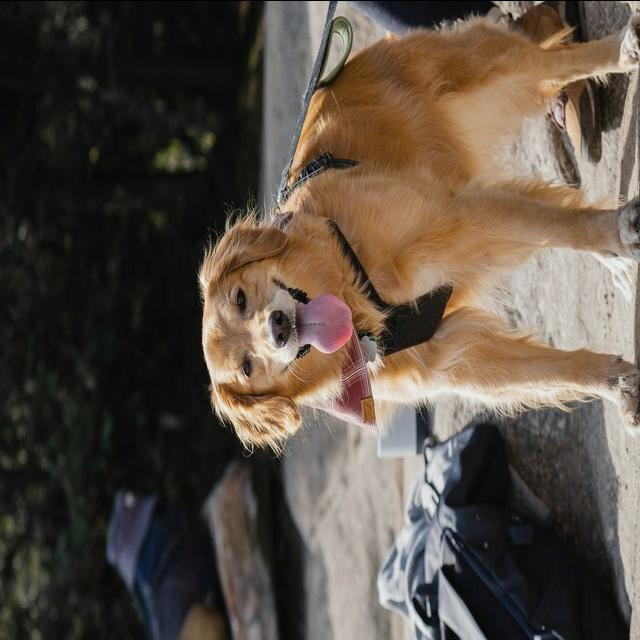retriever: (196, 5, 638, 457)
